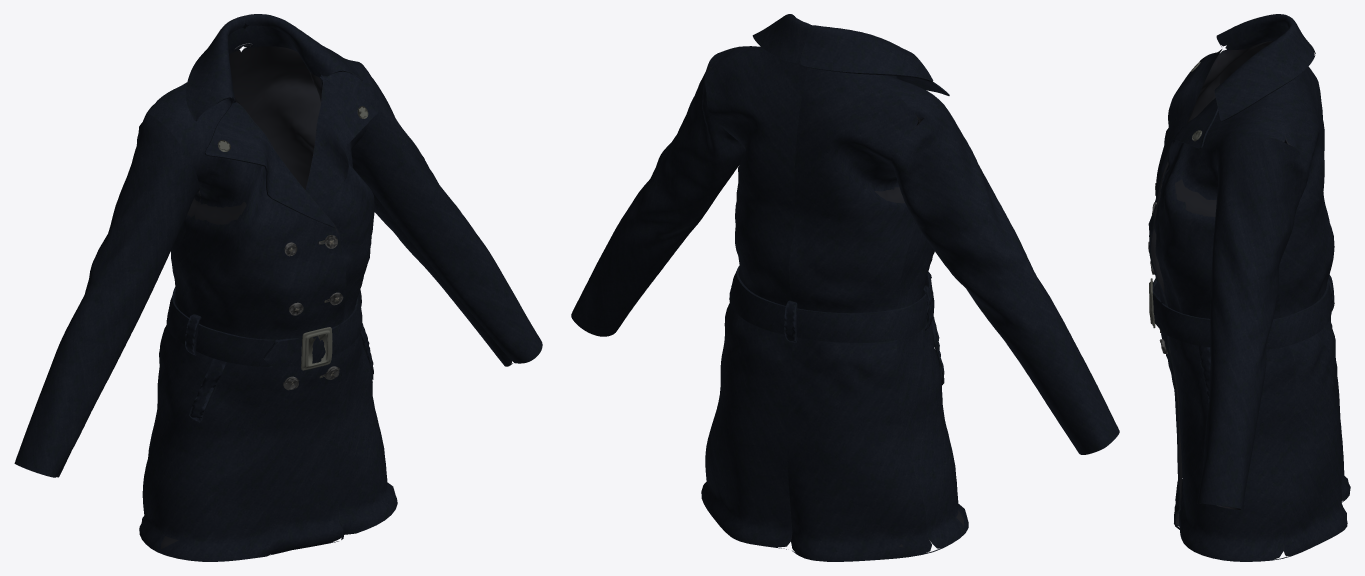
The model's file is overcoat.glb.
The picture shows the model from 3 angles, left to right: view 1: azimuth 30°, elevation 25°; view 2: azimuth 150°, elevation 25°; view 3: azimuth 270°, elevation 25°; orthographic projection. The views are drawn at different scales.
Parts seen in each view (by area): view 1: overcoat; view 2: overcoat; view 3: overcoat.
Boxes of the visible parts, x1=… form: overcoat: x1=14, y1=14, x2=542, y2=561; overcoat: x1=571, y1=14, x2=1119, y2=561; overcoat: x1=1148, y1=14, x2=1350, y2=561.
Bounding box in the file's own units: 1.41 × 1.28 × 0.4811.
1 material, 1 textured.
